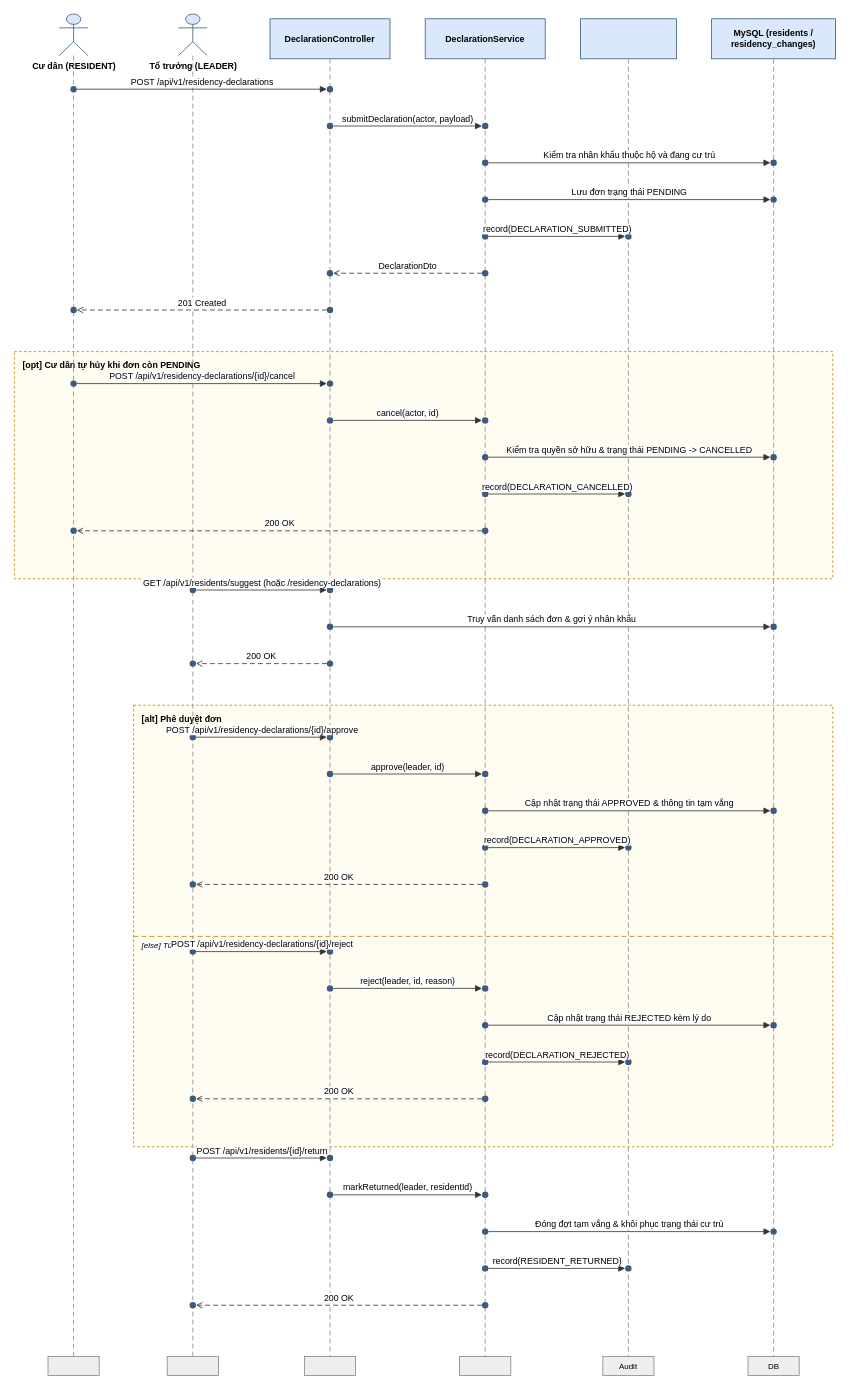
Image size: 850x1390. Some labels were removed from this diagram. The centre of each missing label's shape, as x and y in pixels:
AuditService: pixel 628 38
DeclCtrl: pixel 330 1366
DeclSvc: pixel 485 1366
Leader: pixel 192 1366
Resident: pixel 73 1366
